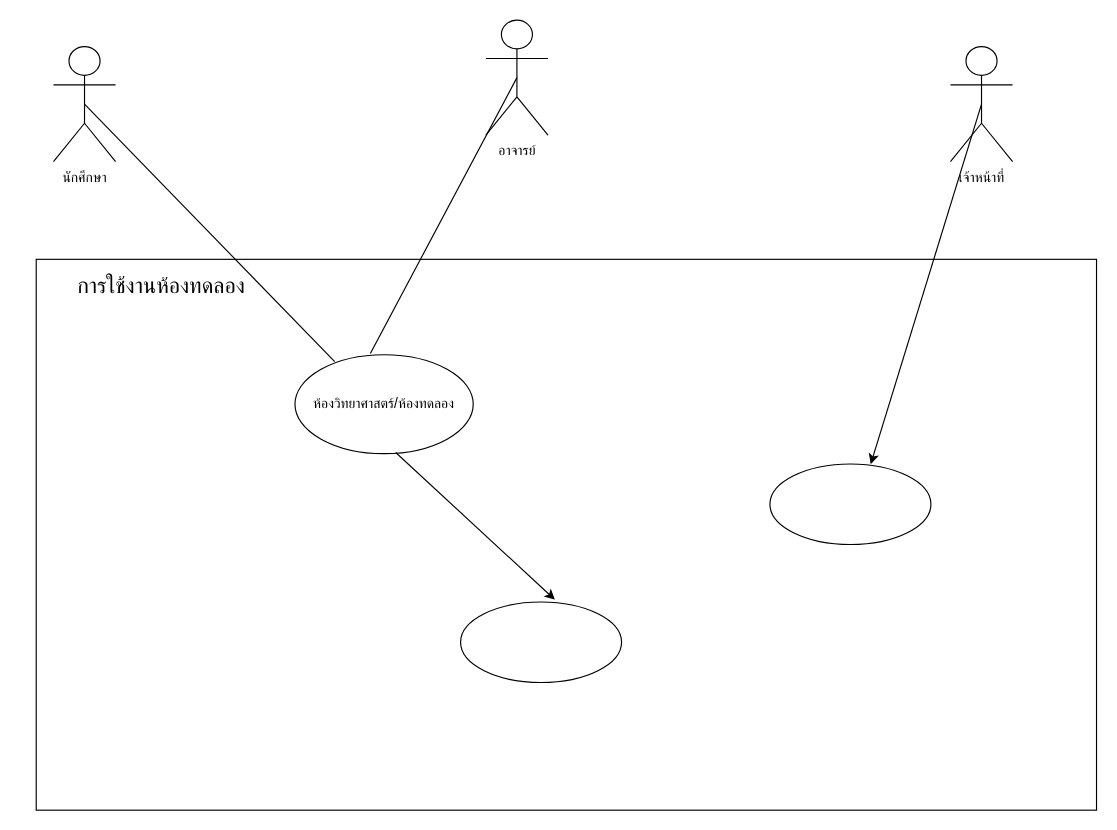
The diagram is 1117 pixels wide and 830 high, and some of its shapes have lost their labels. Here are the shapes that lost their labels. From the top down, the centre of each, then its label:
At point (850, 504): "ดูแลห้องทดลอง".
At point (540, 642): "การเรียนการสอน".
